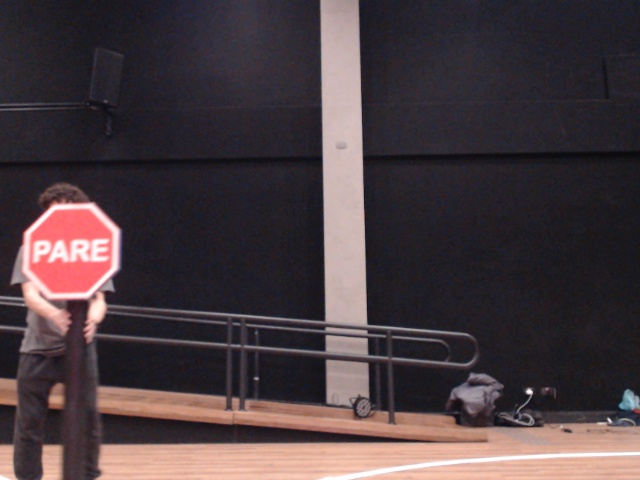SEMAFORO: (4, 189, 153, 326)
